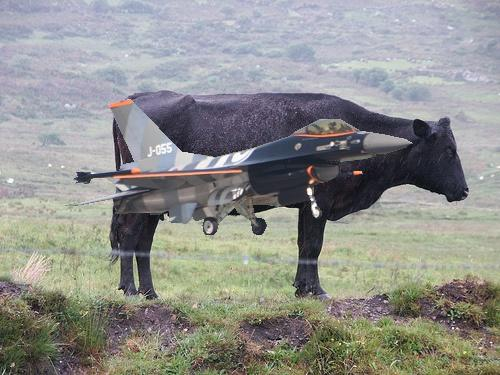tampered: (66, 100, 413, 235)
